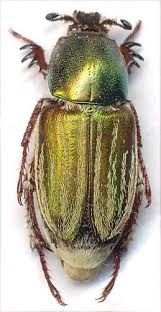Glaphyrus_superbus: (1, 4, 147, 307)
